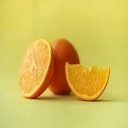orange: (17, 37, 57, 100), (64, 61, 113, 102), (50, 37, 81, 96)
